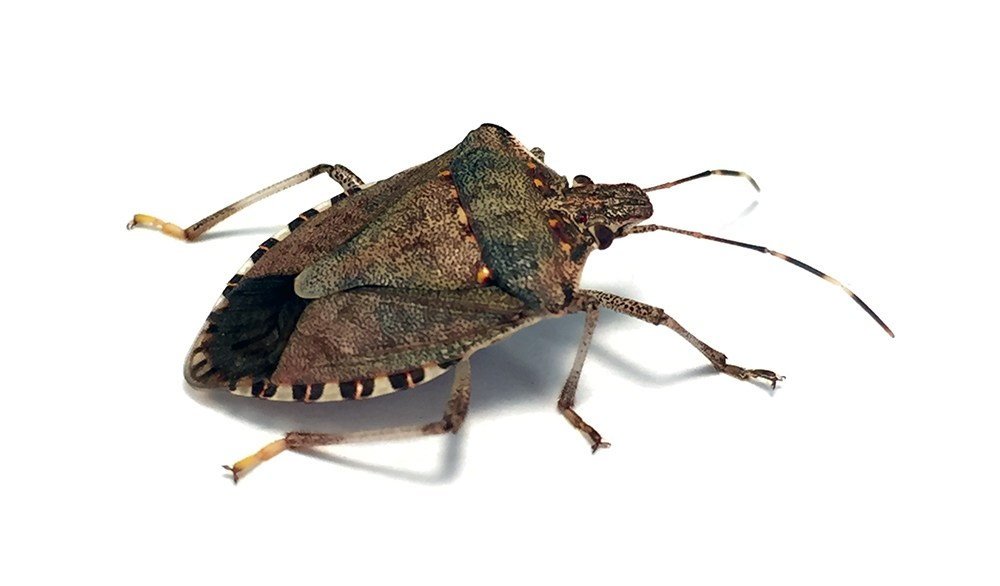Brown Marmorated Stink Bug: (120, 110, 902, 493)
